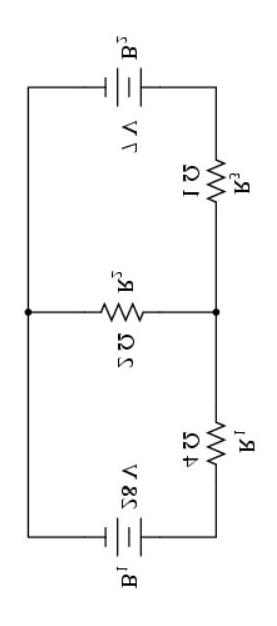Battery: (88, 515, 166, 564)
